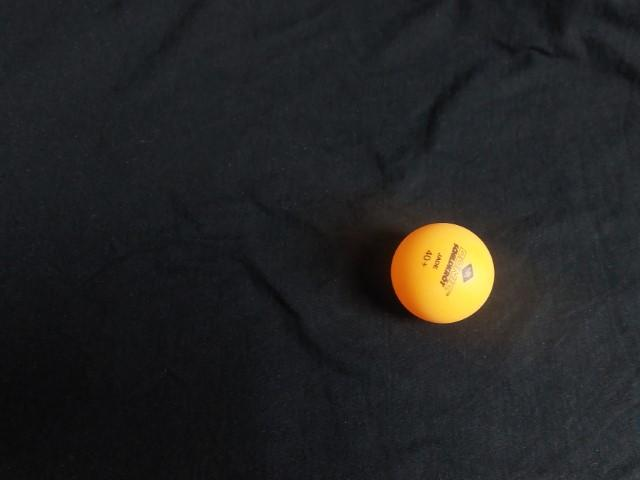oball: (386, 215, 502, 327)
